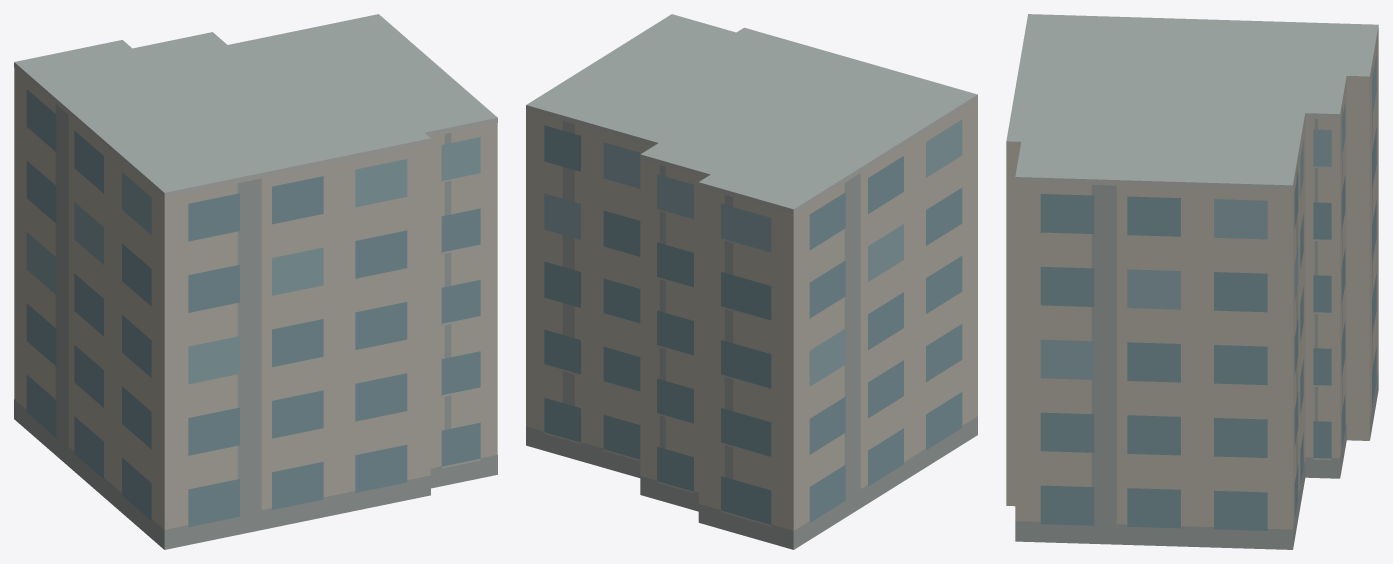
The model's file is survey-upis-32766881.glb.
The picture shows the model from 3 angles, left to right: view 1: azimuth 30°, elevation 25°; view 2: azimuth 150°, elevation 25°; view 3: azimuth 270°, elevation 25°; orthographic projection. The views are drawn at different scales.
Visible parts, largest first — view 1: survey-upis-32766881.tmp; view 2: survey-upis-32766881.tmp; view 3: survey-upis-32766881.tmp.
Part boxes in pixels (left/top/right/bottom): survey-upis-32766881.tmp: left=14, top=14, right=497, bottom=549; survey-upis-32766881.tmp: left=526, top=14, right=977, bottom=549; survey-upis-32766881.tmp: left=1006, top=14, right=1378, bottom=549.
Bounding box in the file's own units: 16.04 × 15.9 × 14.73.
